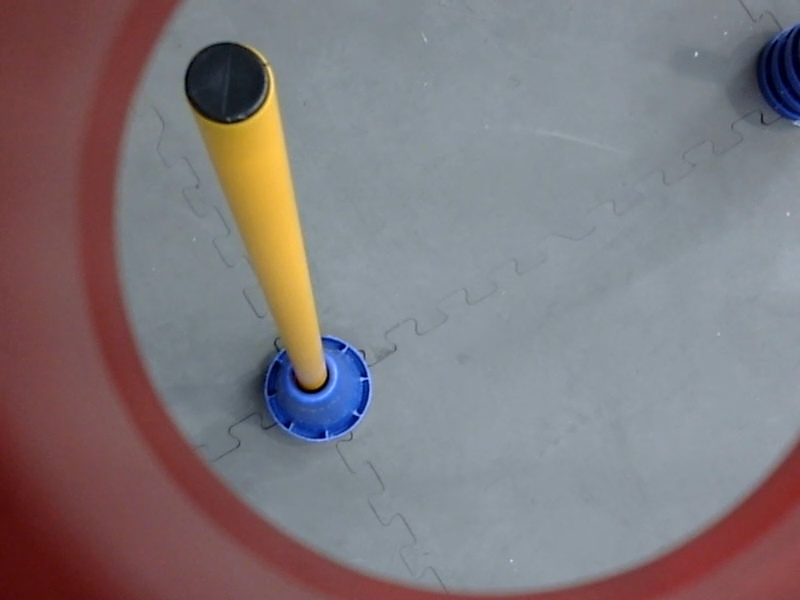tip: (179, 33, 278, 129)
